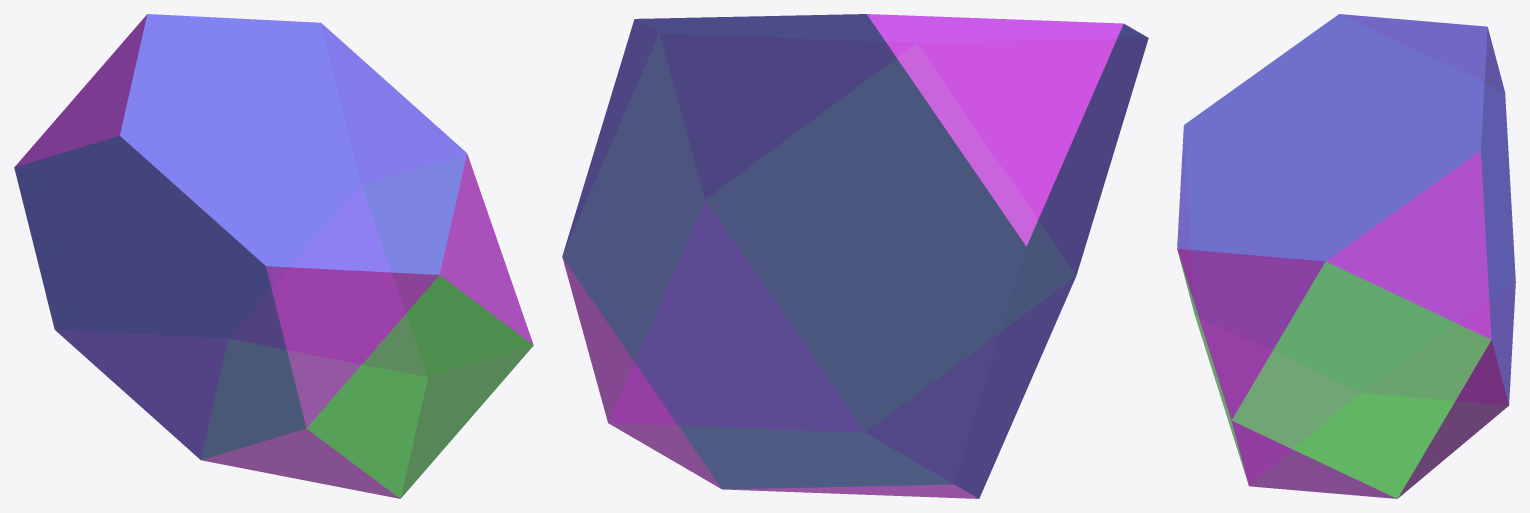
Rendered from j65_augmented_truncated_tetrahedron.obj.
3 renders of one model, left to right at view 1: azimuth 30°, elevation 25°; view 2: azimuth 150°, elevation 25°; view 3: azimuth 270°, elevation 25°, orthographic. The views are drawn at different scales.
Size of the model in its own units: 1.74 by 1.88 by 1.44.
